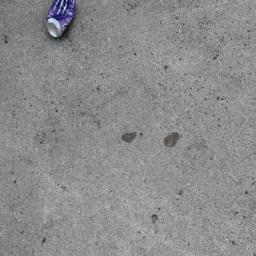FOD: (46, 1, 80, 44)
